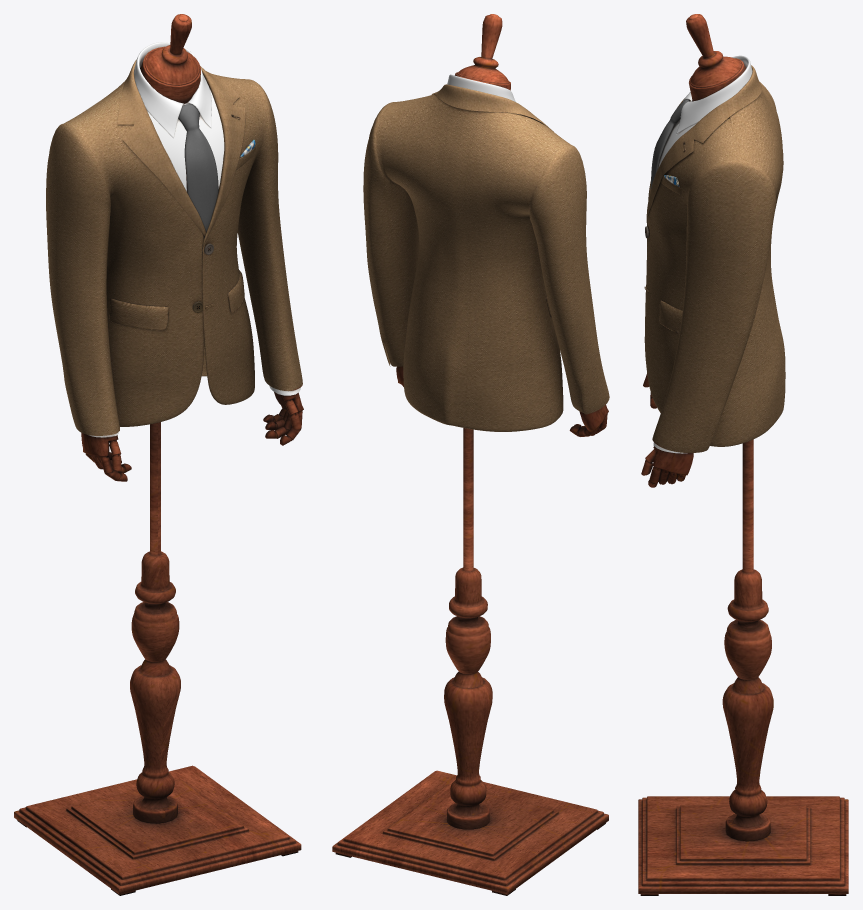
File: Coat-3.glb
3 views of the same model, side by side, from view 1: azimuth 30°, elevation 25°; view 2: azimuth 150°, elevation 25°; view 3: azimuth 270°, elevation 25° (orthographic). The views are drawn at different scales.
Visible parts, largest first — view 1: _gltfNode_18.003, _gltfNode_0.002, _gltfNode_27.002, _gltfNode_36.002, _gltfNode_60.002, _gltfNode_21.002, _gltfNode_42.002; view 2: _gltfNode_18.003, _gltfNode_0.002, _gltfNode_27.002, _gltfNode_60.002; view 3: _gltfNode_18.003, _gltfNode_0.002, _gltfNode_27.002, _gltfNode_60.002, _gltfNode_36.002, _gltfNode_39.002, _gltfNode_21.002.
Boxes of the visible parts, x1=… form: _gltfNode_18.003: x1=46, y1=74, x2=302, y2=435; _gltfNode_0.002: x1=14, y1=14, x2=303, y2=895; _gltfNode_27.002: x1=117, y1=60, x2=245, y2=248; _gltfNode_36.002: x1=178, y1=104, x2=218, y2=238; _gltfNode_60.002: x1=134, y1=42, x2=211, y2=137; _gltfNode_21.002: x1=88, y1=87, x2=300, y2=437; _gltfNode_42.002: x1=109, y1=298, x2=168, y2=330; _gltfNode_18.003: x1=363, y1=94, x2=609, y2=431; _gltfNode_0.002: x1=332, y1=14, x2=608, y2=895; _gltfNode_27.002: x1=431, y1=84, x2=553, y2=131; _gltfNode_60.002: x1=447, y1=74, x2=515, y2=101; _gltfNode_18.003: x1=644, y1=82, x2=785, y2=452; _gltfNode_0.002: x1=638, y1=14, x2=848, y2=895; _gltfNode_27.002: x1=646, y1=65, x2=762, y2=223; _gltfNode_60.002: x1=676, y1=55, x2=752, y2=134; _gltfNode_36.002: x1=650, y1=99, x2=689, y2=189; _gltfNode_39.002: x1=659, y1=300, x2=682, y2=333; _gltfNode_21.002: x1=653, y1=119, x2=696, y2=453.
Bounding box in the file's own units: 0.2032 × 0.7347 × 0.1673.
Materials: 2 (2 with a texture image).
